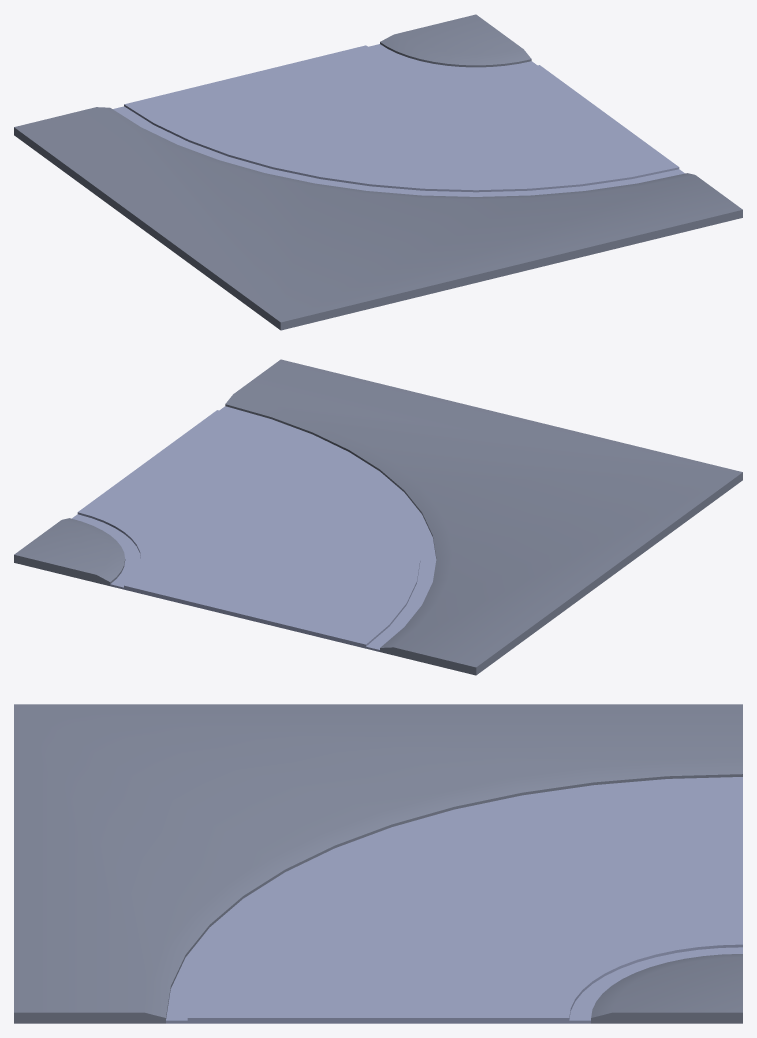
Rendered from road-bend.glb.
The picture shows the model from 3 angles, top to bottom: view 1: azimuth 30°, elevation 25°; view 2: azimuth 150°, elevation 25°; view 3: azimuth 270°, elevation 25°; orthographic projection. The views are drawn at different scales.
Parts seen in each view (by area): view 1: road-bend; view 2: road-bend; view 3: road-bend.
Part boxes in pixels (x1,y1,x2,y2): road-bend: (14,14,742,330); road-bend: (14,359,742,675); road-bend: (14,704,742,1023).
Bounding box in the file's own units: 3 × 0.0502 × 3.
Materials: 1 (1 with a texture image).
